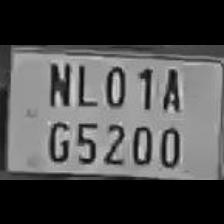0: (100, 60, 128, 108), (154, 120, 182, 168), (127, 120, 153, 166)
1: (130, 61, 154, 111)
2: (100, 118, 126, 166)
5: (71, 116, 97, 164)
A: (154, 61, 184, 115)
G: (43, 114, 70, 162)
L: (73, 58, 97, 108)
N: (44, 57, 72, 109)
